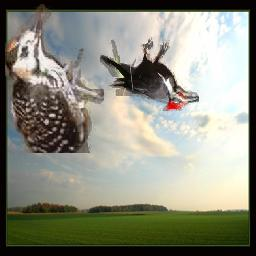Woodpecker: (6, 5, 105, 154), (101, 35, 200, 112)
